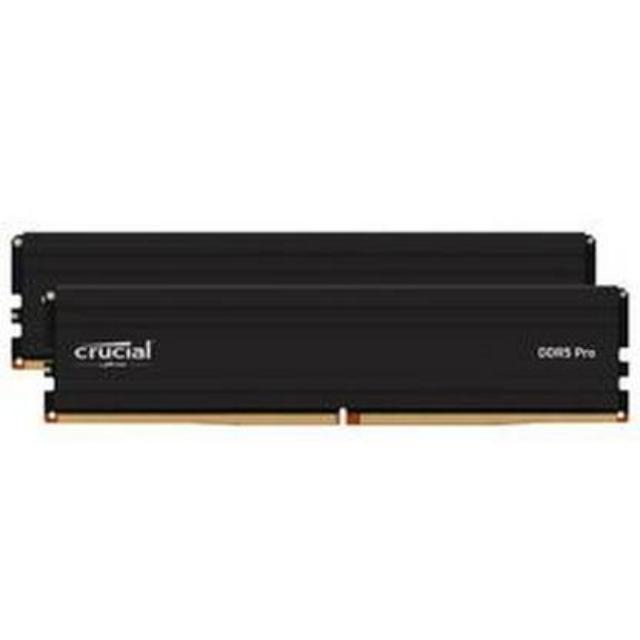RAM: (0, 225, 640, 440)
